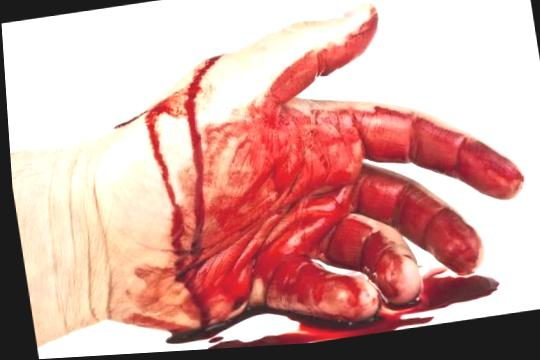Fire: (118, 19, 521, 351)
